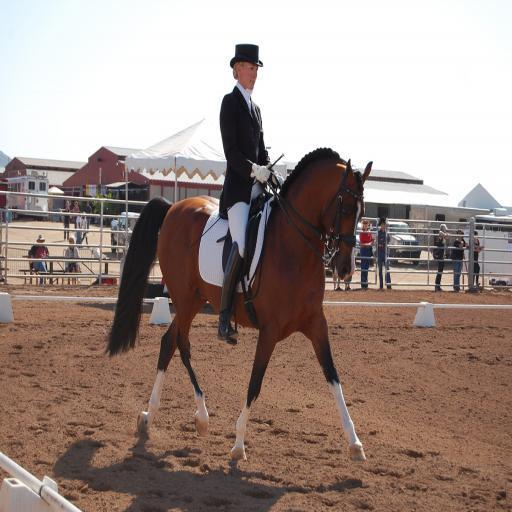horse: (101, 146, 374, 460)
